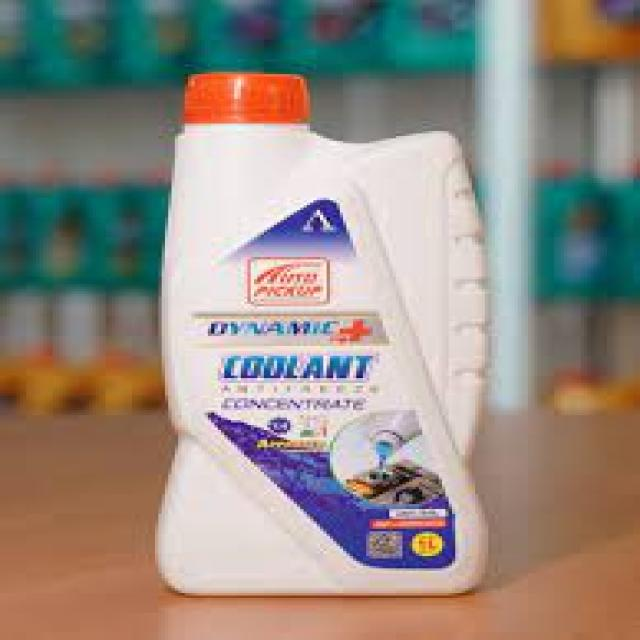coolant: (161, 59, 504, 607)
